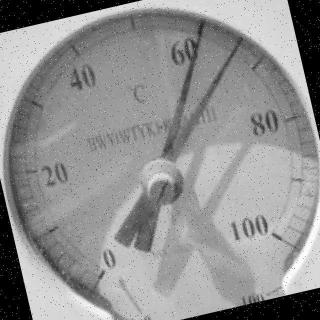gauge: (5, 5, 319, 320), (222, 202, 302, 271), (74, 247, 134, 309), (134, 154, 189, 212), (196, 13, 216, 31), (234, 33, 248, 47)
